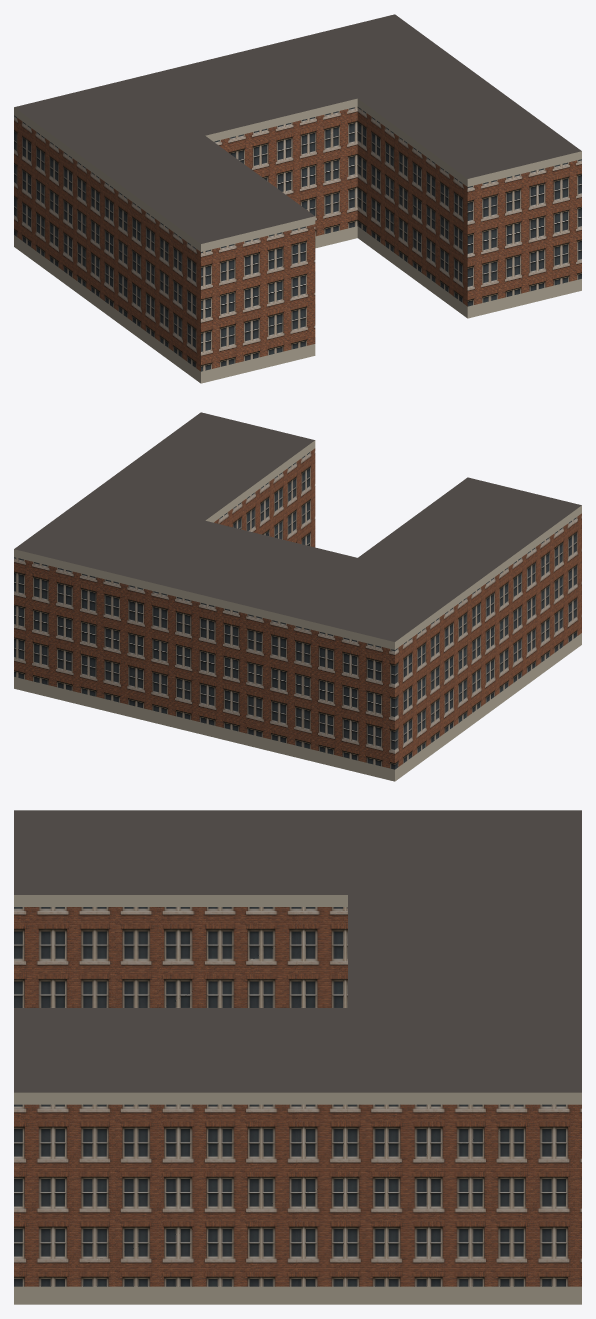
File: gen_low2_courtyard_apts.glb
3 renders of one model, top to bottom at view 1: azimuth 30°, elevation 25°; view 2: azimuth 150°, elevation 25°; view 3: azimuth 270°, elevation 25°, orthographic. The views are drawn at different scales.
Parts seen in each view (by area): view 1: gen_low2_courtyard_apts; view 2: gen_low2_courtyard_apts; view 3: gen_low2_courtyard_apts.
Part boxes in pixels (<box>): gen_low2_courtyard_apts: <box>14,14,581,383</box>; gen_low2_courtyard_apts: <box>14,412,581,781</box>; gen_low2_courtyard_apts: <box>14,810,581,1304</box>.
Bounding box in the file's own units: 40 × 14 × 34.
Materials: 2 (2 with a texture image).
